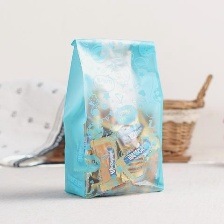snack: (56, 31, 171, 204)
